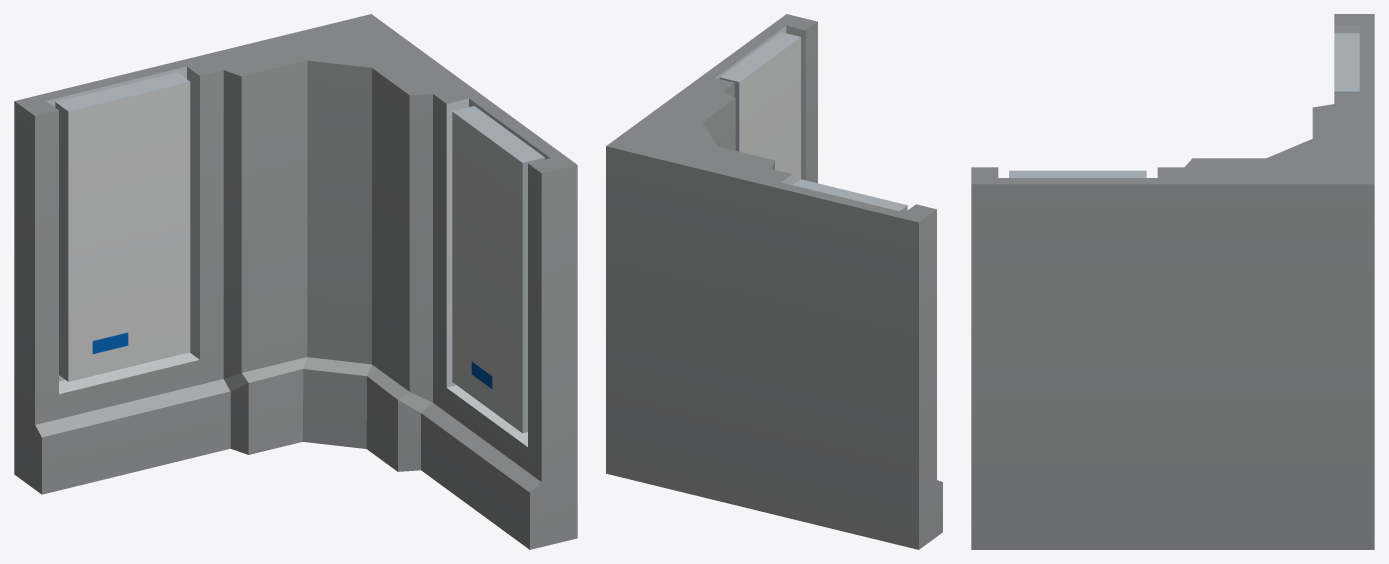
Rendered from Wall_type_A_047.fbx.
3 views of the same model, side by side, from view 1: azimuth 30°, elevation 25°; view 2: azimuth 150°, elevation 25°; view 3: azimuth 270°, elevation 25° (orthographic). The views are drawn at different scales.
Visible parts, largest first — view 1: Wall_type_A_047; view 2: Wall_type_A_047; view 3: Wall_type_A_047.
Part boxes in pixels (x1=…): Wall_type_A_047: x1=14, y1=14, x2=577, y2=549; Wall_type_A_047: x1=606, y1=14, x2=942, y2=549; Wall_type_A_047: x1=971, y1=14, x2=1374, y2=549.
Bounding box in the file's own units: 150 × 150 × 150.
